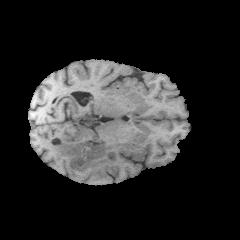glioma: (50, 133, 137, 181)
